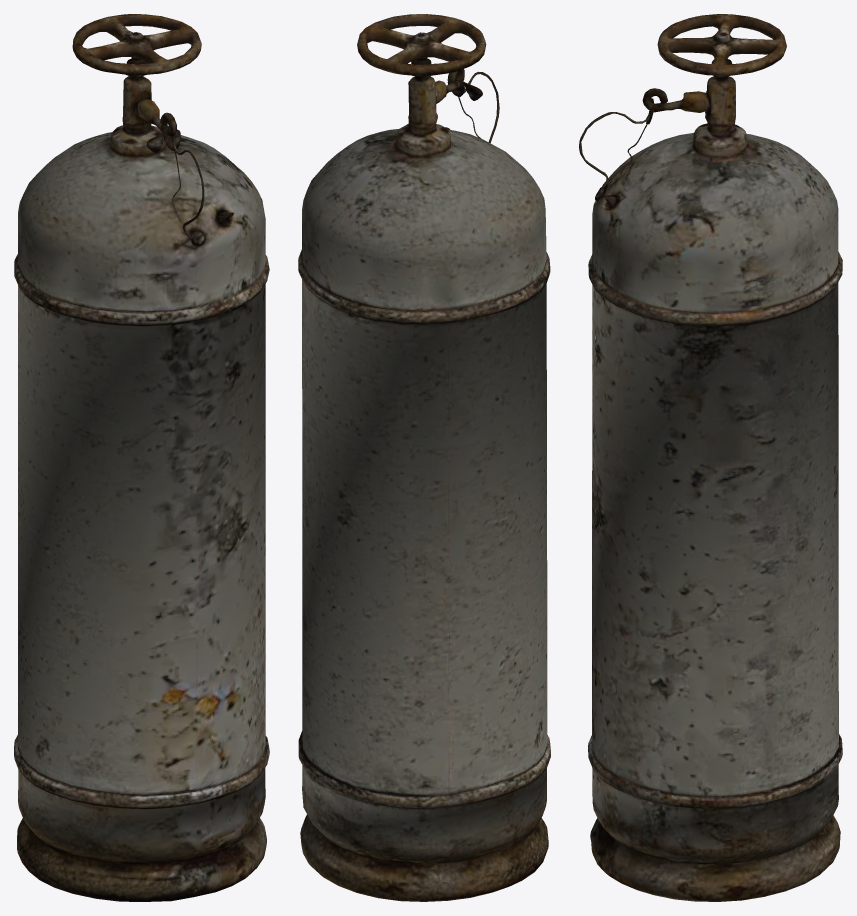
File: prop_gas_cylinder.glb
3 views of the same model, side by side, from view 1: azimuth 30°, elevation 25°; view 2: azimuth 150°, elevation 25°; view 3: azimuth 270°, elevation 25° (orthographic).
Visible parts, largest first — view 1: tripo_node_271fbb6a-857c-4336-bf2d-162d35ba013f; view 2: tripo_node_271fbb6a-857c-4336-bf2d-162d35ba013f; view 3: tripo_node_271fbb6a-857c-4336-bf2d-162d35ba013f.
Boxes of the visible parts, left/top/right/bottom form: tripo_node_271fbb6a-857c-4336-bf2d-162d35ba013f: left=14, top=14, right=269, bottom=901; tripo_node_271fbb6a-857c-4336-bf2d-162d35ba013f: left=298, top=14, right=550, bottom=901; tripo_node_271fbb6a-857c-4336-bf2d-162d35ba013f: left=579, top=14, right=842, bottom=901.
Bounding box in the file's own units: 0.3418 × 1.2 × 0.3512.
Materials: 1 (1 with a texture image).
